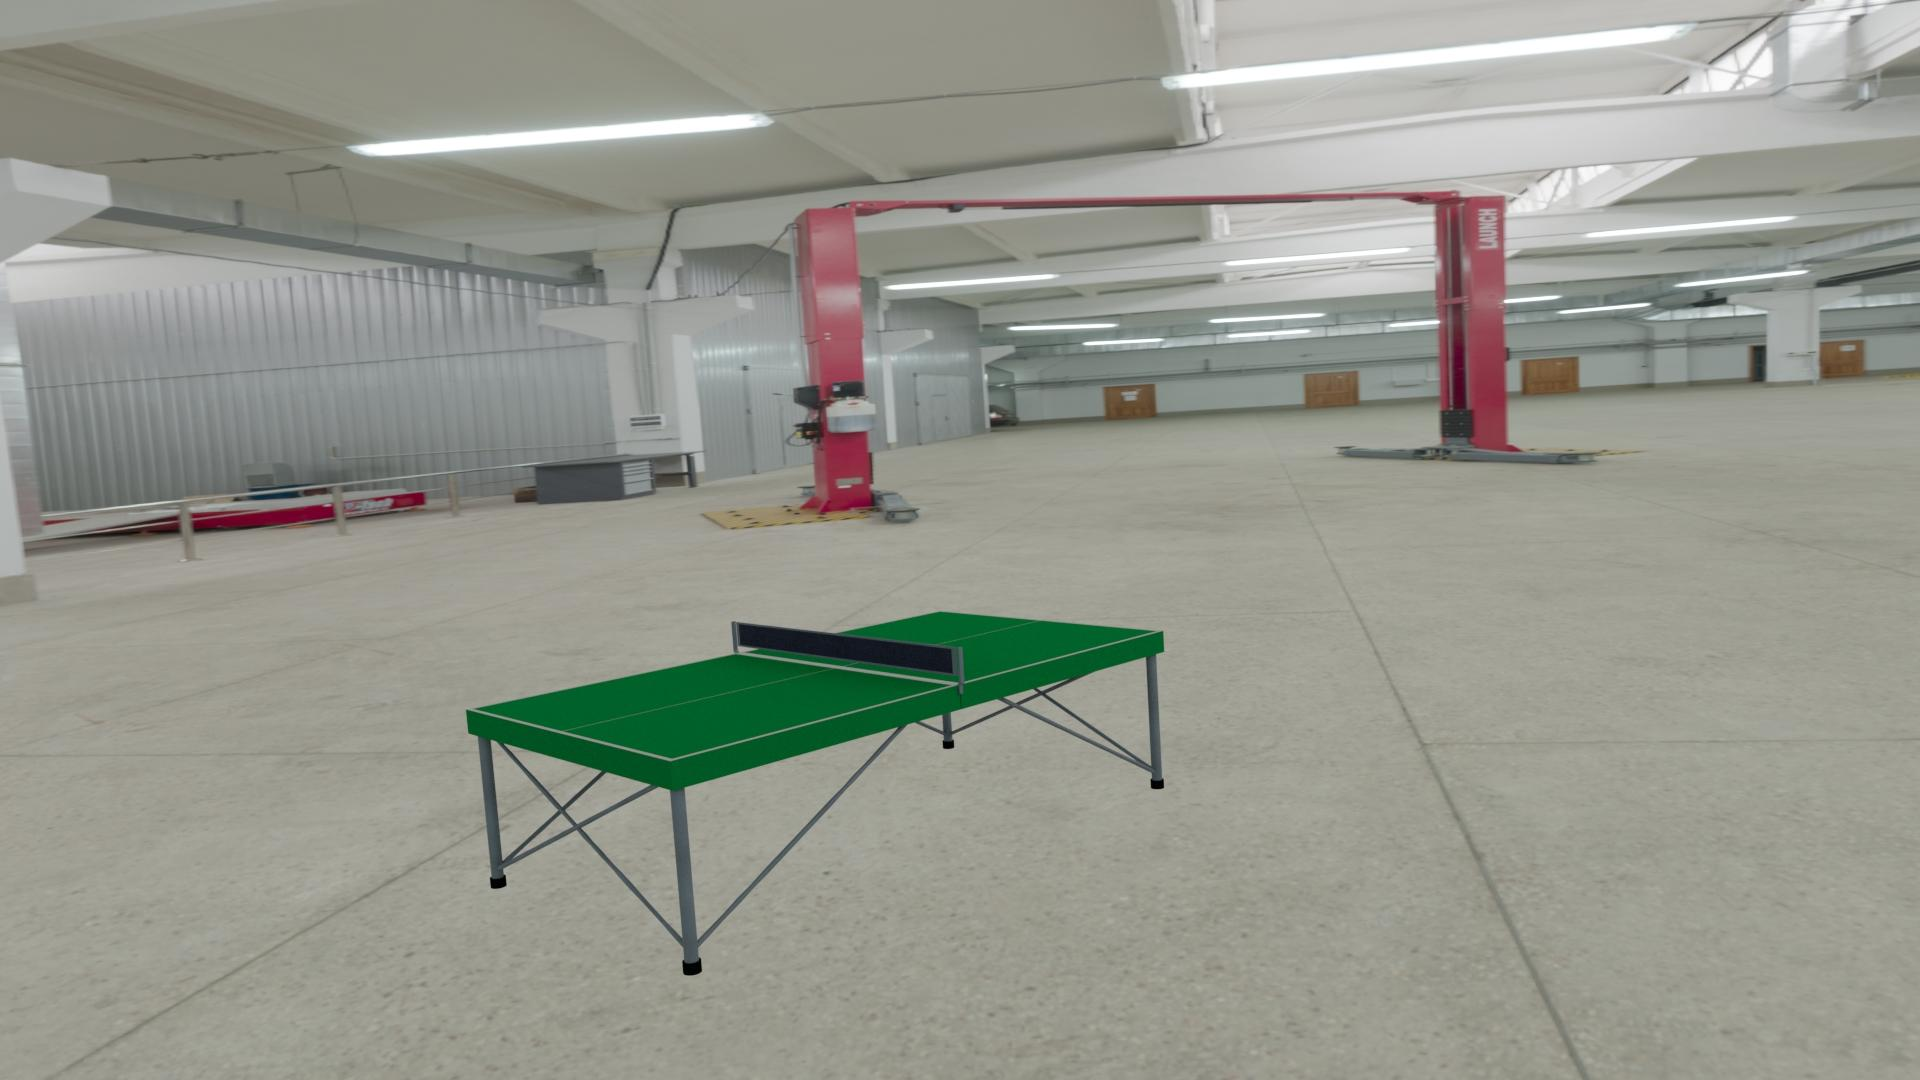table: (472, 612, 1158, 760)
